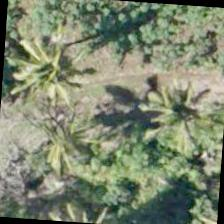Kelapa_Sawit: (120, 65, 216, 161), (16, 102, 111, 198), (0, 29, 90, 126)
